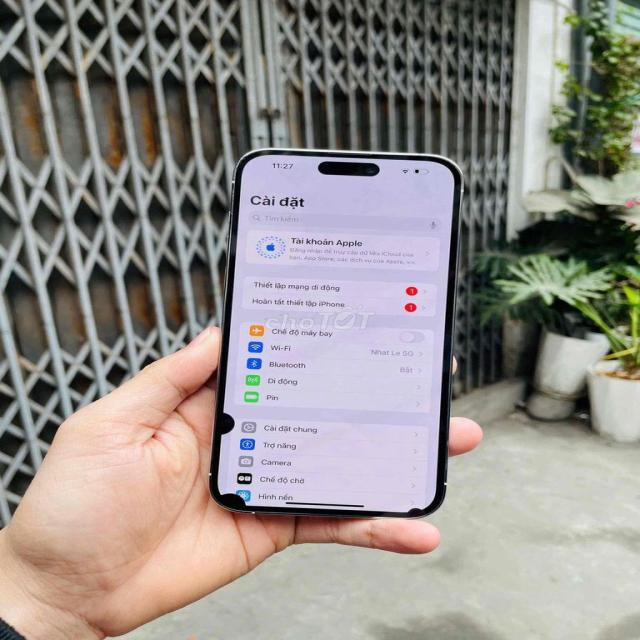screen_defect: (209, 490, 253, 512), (214, 410, 236, 440), (399, 501, 427, 518)
